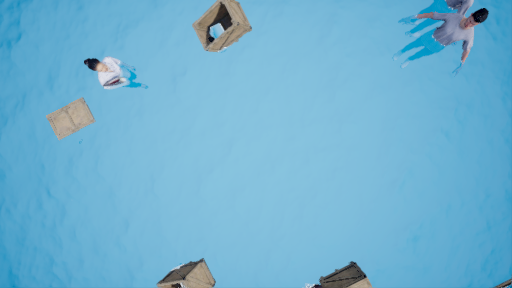person: (391, 11, 492, 84), (85, 55, 153, 95)
